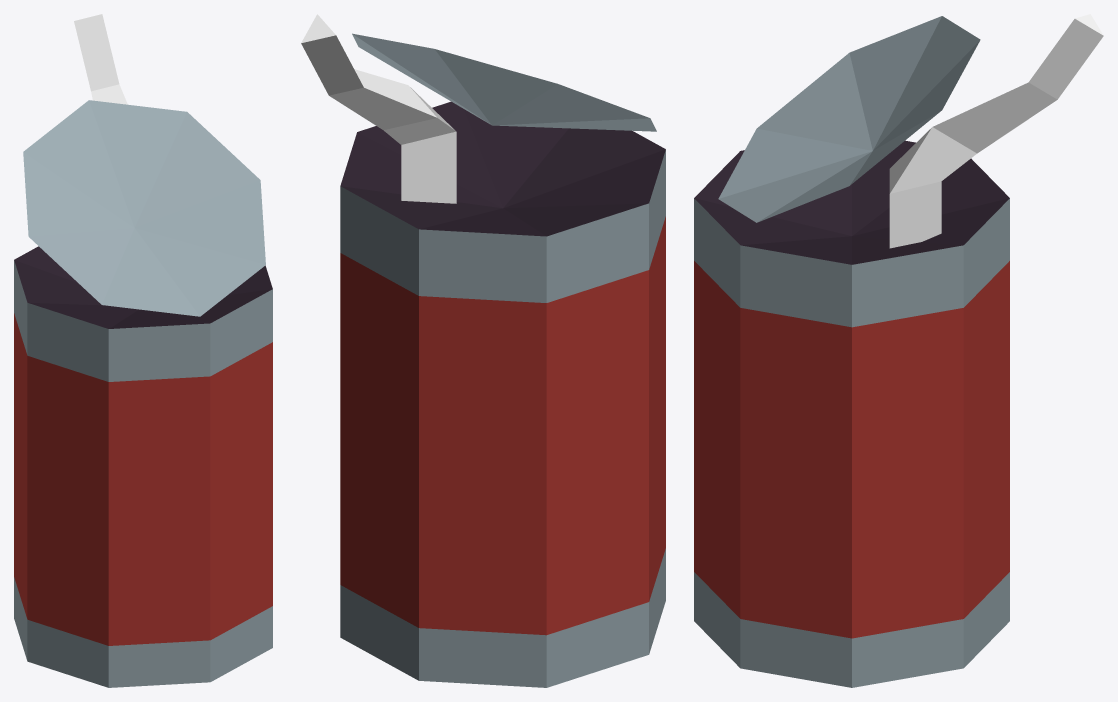
File: LandMinePreview.fbx
The picture shows the model from 3 angles, left to right: view 1: azimuth 30°, elevation 25°; view 2: azimuth 150°, elevation 25°; view 3: azimuth 270°, elevation 25°; orthographic projection. The views are drawn at different scales.
Visible parts, largest first — view 1: Cylinder; view 2: Cylinder; view 3: Cylinder.
Part boxes in pixels (x1,y1,x2,y2): Cylinder: (14, 14, 272, 687); Cylinder: (301, 14, 665, 687); Cylinder: (694, 14, 1103, 687).
Bounding box in the file's own units: 50 × 111 × 64.85.
